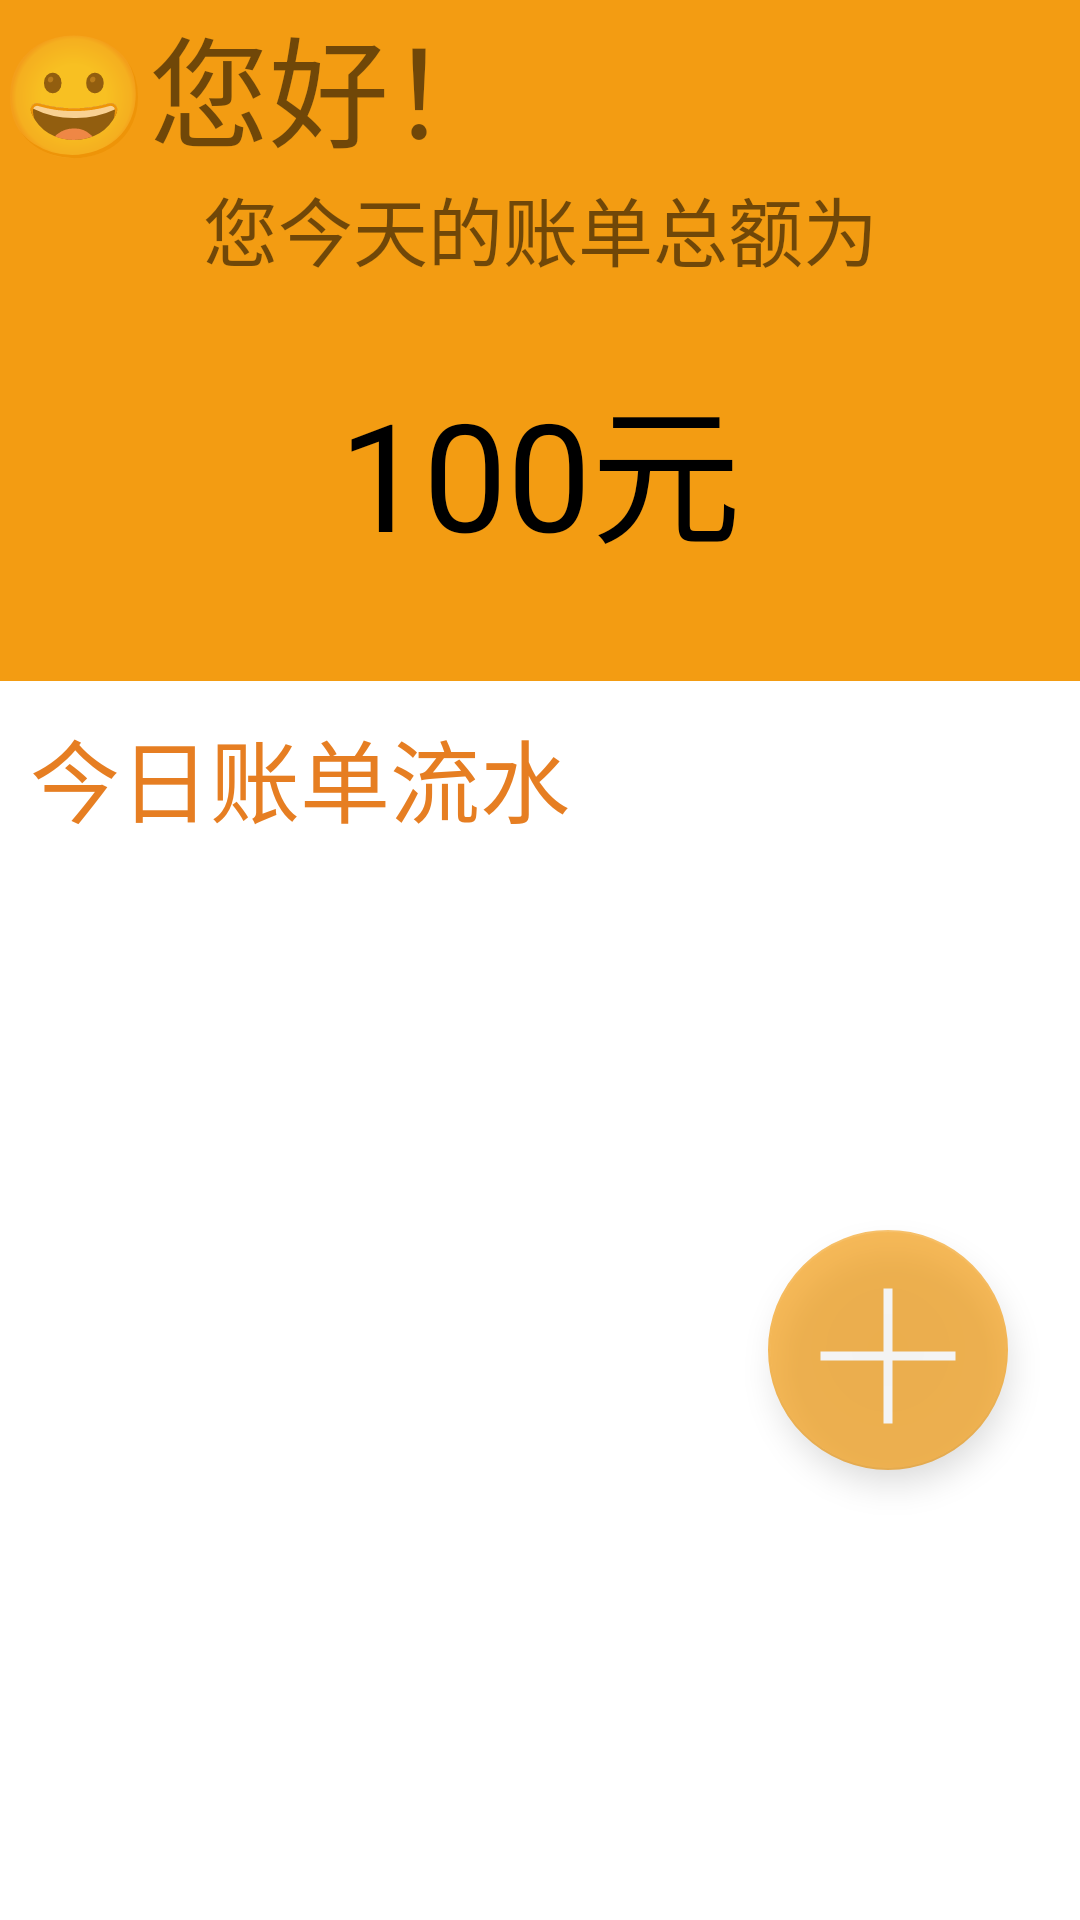

Named icons in this screenshot (1080×1920) and their bounding boxes, [x1=x1, y1=y1, x2=x2, y2=y2]:
pluc: [x1=768, y1=1230, x2=1008, y2=1470]
